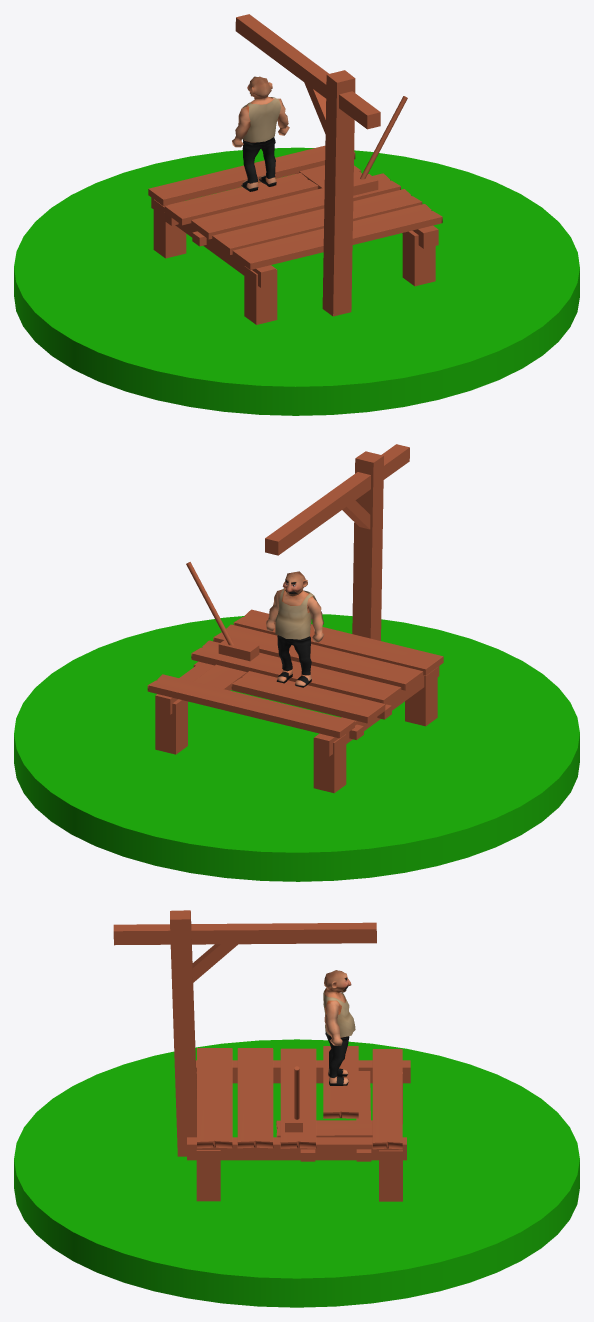
Rendered from pendu.fbx.
3 views of the same model, one above another, from view 1: azimuth 30°, elevation 25°; view 2: azimuth 150°, elevation 25°; view 3: azimuth 270°, elevation 25° (orthographic).
Visible parts, largest first — view 1: BezierCircle, Cube.015, Cube.007, Cube.018, Cube.006, Cube.016, Cube.008, Cube.009, Trappe, Cube.003, Cube.004, Cube.002 (+2 smaller); view 2: BezierCircle, Cube.015, Cube.009, Cube.018, Cube.008, Cube.006, Cube.016, Trappe, Cube.007, Cube.001, Cube.002, Cube.004 (+4 smaller); view 3: BezierCircle, Cube.016, Cube.015, Cube.006, Cube.007, Cube.008, Cube.009, Cube, Cube.018, Trappe, Cube.003, Cube.001 (+4 smaller).
Boxes of the visible parts, x1=… form: BezierCircle: x1=14, y1=147, x2=579, y2=415; Cube.015: x1=322, y1=70, x2=355, y2=316; Cube.007: x1=232, y1=204, x2=442, y2=269; Cube.018: x1=232, y1=76, x2=289, y2=191; Cube.006: x1=212, y1=189, x2=422, y2=254; Cube.016: x1=235, y1=14, x2=380, y2=129; Cube.008: x1=191, y1=173, x2=400, y2=239; Cube.009: x1=148, y1=145, x2=355, y2=205; Trappe: x1=164, y1=173, x2=318, y2=225; Cube.003: x1=402, y1=230, x2=435, y2=286; Cube.004: x1=244, y1=266, x2=277, y2=324; Cube.002: x1=153, y1=199, x2=186, y2=258; BezierCircle: x1=14, y1=614, x2=579, y2=881; Cube.015: x1=352, y1=451, x2=383, y2=640; Cube.009: x1=147, y1=674, x2=354, y2=738; Cube.018: x1=266, y1=571, x2=324, y2=687; Cube.008: x1=191, y1=640, x2=401, y2=704; Cube.006: x1=213, y1=624, x2=423, y2=690; Cube.016: x1=265, y1=444, x2=409, y2=555; Trappe: x1=231, y1=671, x2=385, y2=723; Cube.007: x1=233, y1=609, x2=443, y2=675; Cube.001: x1=155, y1=699, x2=187, y2=754; Cube.002: x1=313, y1=734, x2=346, y2=793; Cube.004: x1=405, y1=667, x2=437, y2=726; BezierCircle: x1=14, y1=1039, x2=579, y2=1307; Cube.016: x1=113, y1=922, x2=376, y2=945; Cube.015: x1=170, y1=910, x2=196, y2=1156; Cube.006: x1=237, y1=1048, x2=273, y2=1148; Cube.007: x1=197, y1=1048, x2=232, y2=1148; Cube.008: x1=280, y1=1048, x2=316, y2=1148; Cube.009: x1=372, y1=1049, x2=402, y2=1149; Cube: x1=187, y1=1137, x2=406, y2=1160; Cube.018: x1=323, y1=970, x2=355, y2=1085; Trappe: x1=323, y1=1046, x2=358, y2=1118; Cube.003: x1=196, y1=1150, x2=220, y2=1201; Cube.001: x1=379, y1=1150, x2=402, y2=1201.
Bounding box in the file's own units: 1175 × 610 × 1175.
